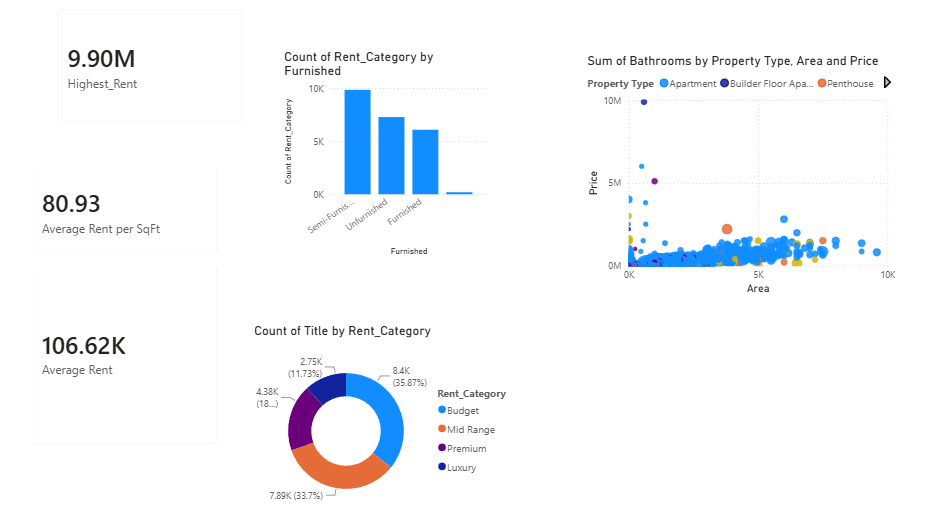

This screenshot's page, from the dashboard's own definition file:
{"tool":"powerbi","page":{"name":"Page 3","canvas":[1280,720],"ordinal":2},"visuals":[{"type":"shape","box":[143.8,185.9,164.1,82.8],"z":0},{"type":"shape","box":[143.8,359.4,164.1,82.8],"z":1},{"type":"shape","box":[143.8,532.8,164.1,82.8],"z":2},{"type":"shape","box":[348.4,168.8,378.1,290.6],"z":3},{"type":"shape","box":[748.4,168.8,503.1,290.6],"z":4},{"type":"shape","box":[348.2,502.9,903.5,194.7],"z":5},{"type":"cardVisual","fields":{"Data":["Mumbai_property_details_cleaned.Highest_Rent"]},"box":[155,168.3,138.3,98.3],"z":6},{"type":"cardVisual","fields":{"Data":["Mumbai_property_details_cleaned.Average Rent"]},"box":[143.3,503.3,163.3,113.3],"z":7},{"type":"cardVisual","fields":{"Data":["Mumbai_property_details_cleaned.Average Rent per SqFt"]},"box":[120,328.3,208.3,115],"z":8},{"type":"columnChart","fields":{"Category":["Mumbai_property_details_cleaned.Furnished"],"Y":["CountNonNull(Mumbai_property_details_cleaned.Rent_Category)"]},"box":[360,168.3,366.7,275],"z":9},{"type":"scatterChart","fields":{"X":["Mumbai_property_details_cleaned.Area"],"Y":["Mumbai_property_details_cleaned.Price"],"Series":["Mumbai_property_details_cleaned.Property Type"],"Size":["Sum(Mumbai_property_details_cleaned.Bathrooms)"]},"box":[760,168.3,503.3,290],"z":10},{"type":"donutChart","fields":{"Category":["Mumbai_property_details_cleaned.Rent_Category"],"Y":["CountNonNull(Mumbai_property_details_cleaned.Title)"]},"box":[348.3,503.3,915,195],"z":11}]}

Visuals, with their boxes in screenshot pixels (x1, y1, x2, y2), scaled from the page's 1280x720 canvas onto the 946x531 screenshot:
shape: x1=106, y1=137, x2=228, y2=198
shape: x1=106, y1=265, x2=228, y2=326
shape: x1=106, y1=393, x2=228, y2=454
shape: x1=257, y1=124, x2=537, y2=339
shape: x1=553, y1=124, x2=925, y2=339
shape: x1=257, y1=371, x2=925, y2=514
cardVisual - Mumbai_property_details_cleaned.Highest_Rent: x1=115, y1=124, x2=217, y2=197
cardVisual - Mumbai_property_details_cleaned.Average Rent: x1=106, y1=371, x2=227, y2=455
cardVisual - Mumbai_property_details_cleaned.Average Rent per SqFt: x1=89, y1=242, x2=243, y2=327
columnChart - Mumbai_property_details_cleaned.Furnished x CountNonNull(Mumbai_property_details_cleaned.Rent_Category): x1=266, y1=124, x2=537, y2=327
scatterChart - Mumbai_property_details_cleaned.Area x Mumbai_property_details_cleaned.Price: x1=562, y1=124, x2=934, y2=338
donutChart - Mumbai_property_details_cleaned.Rent_Category x CountNonNull(Mumbai_property_details_cleaned.Title): x1=257, y1=371, x2=934, y2=515
